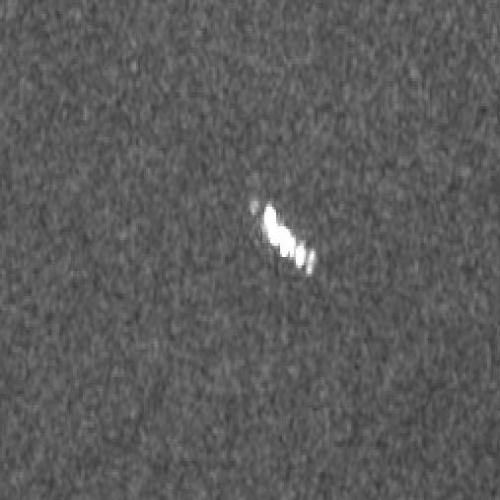ship: (249, 201, 318, 276)
